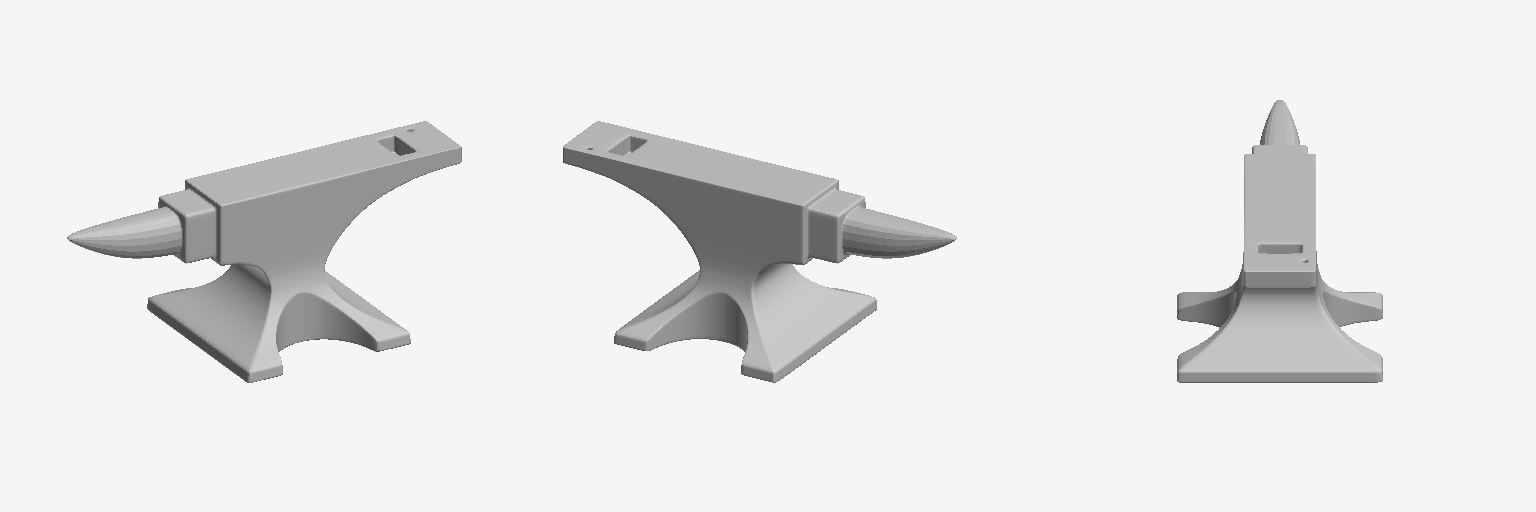
File: Anvil.obj
3 views of the same model, side by side, from view 1: azimuth 30°, elevation 25°; view 2: azimuth 150°, elevation 25°; view 3: azimuth 270°, elevation 25° (orthographic).
Size of the model in its own units: 6.52 by 2.53 by 3.09.